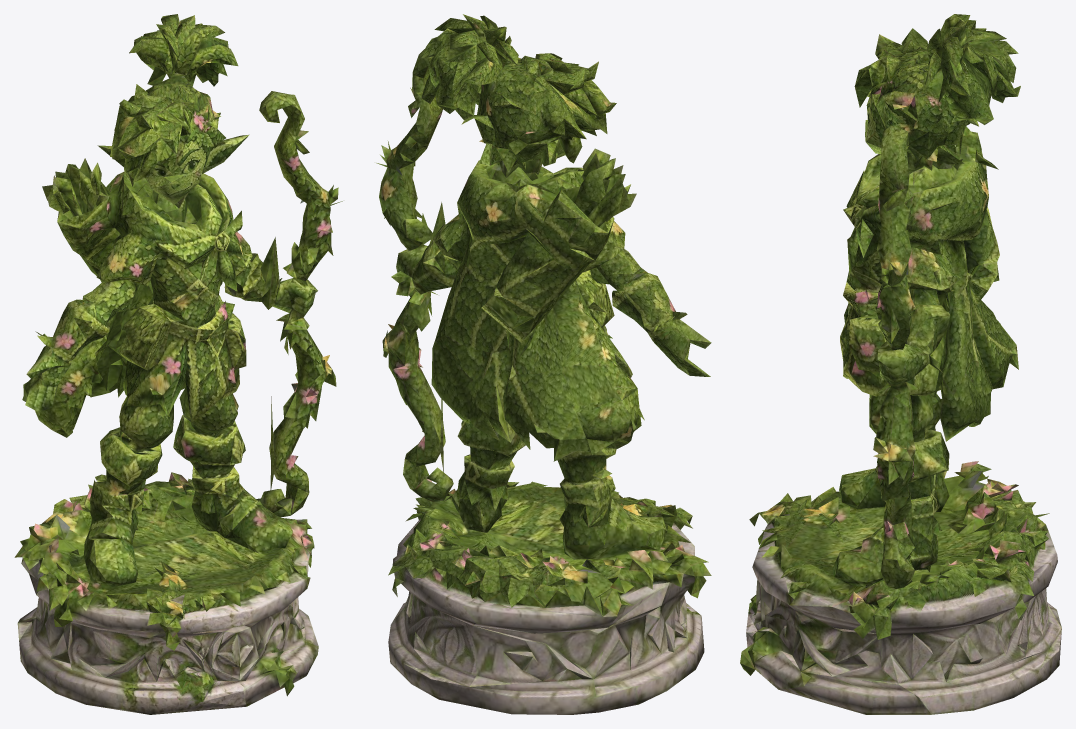
Rendered from topiary-ranger.glb.
3 renders of one model, left to right at view 1: azimuth 30°, elevation 25°; view 2: azimuth 150°, elevation 25°; view 3: azimuth 270°, elevation 25°, orthographic. The views are drawn at different scales.
Size of the model in its own units: 1.09 by 2 by 0.8965.
Materials: 1 (1 with a texture image).
